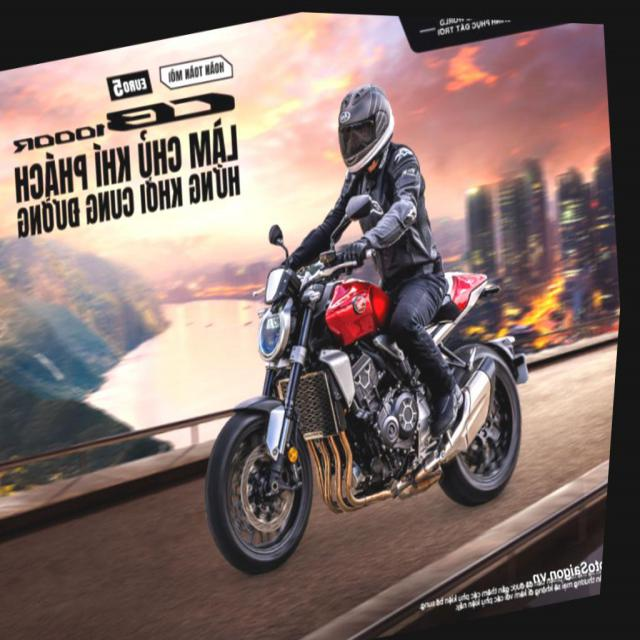CB650R: (177, 216, 553, 594)
